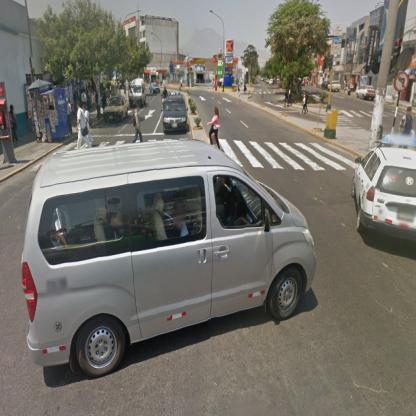Peaton: (75, 102, 94, 153), (208, 108, 222, 153)
Pista: (186, 86, 394, 207)
Vehiculo: (21, 140, 317, 378), (161, 98, 190, 133), (104, 96, 130, 124), (130, 80, 147, 109)
